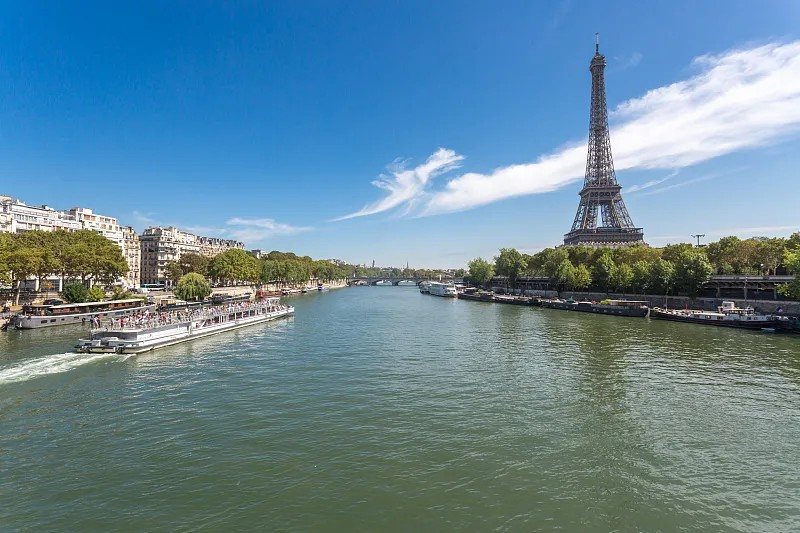Eiffel: (564, 32, 645, 244)
